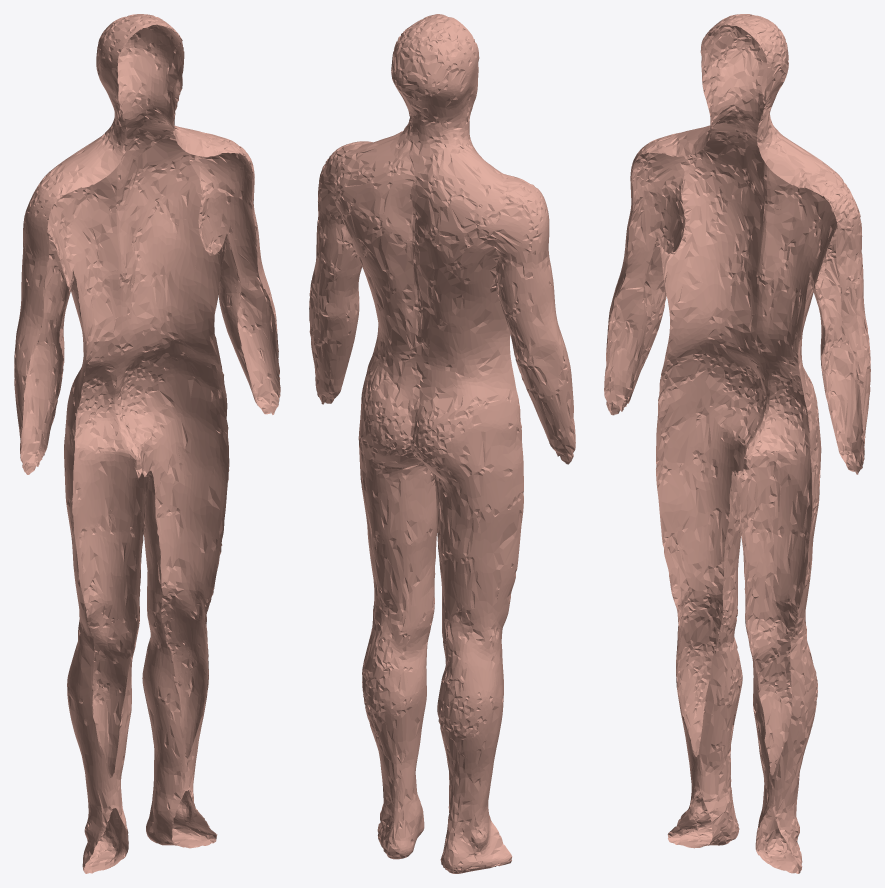
The model's file is pelle_interno.glb.
3 renders of one model, left to right at view 1: azimuth 30°, elevation 25°; view 2: azimuth 150°, elevation 25°; view 3: azimuth 330°, elevation 25°, orthographic.
Visible parts, largest first — view 1: skin; view 2: skin; view 3: skin.
Part boxes in pixels (box(x1,y1,x2,y2)): skin: box(14, 14, 280, 873); skin: box(309, 14, 575, 873); skin: box(604, 14, 870, 873).
Bounding box in the file's own units: 560 × 1717 × 146.
